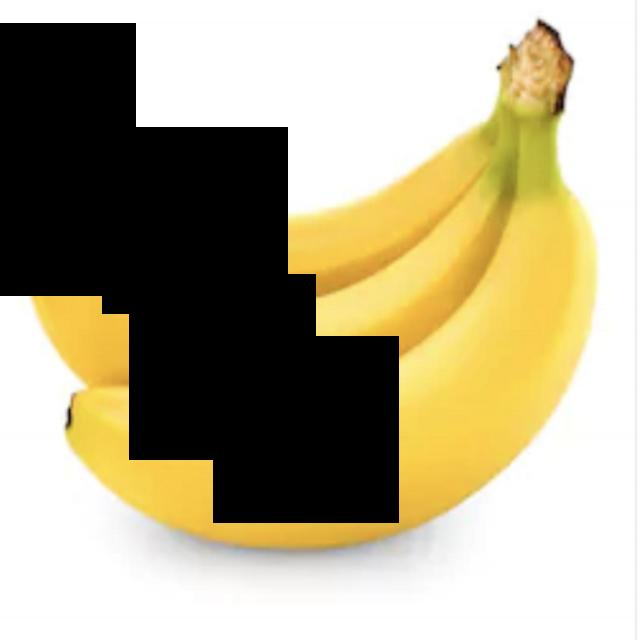banana: (79, 94, 578, 556), (0, 185, 532, 412), (70, 516, 70, 521)
